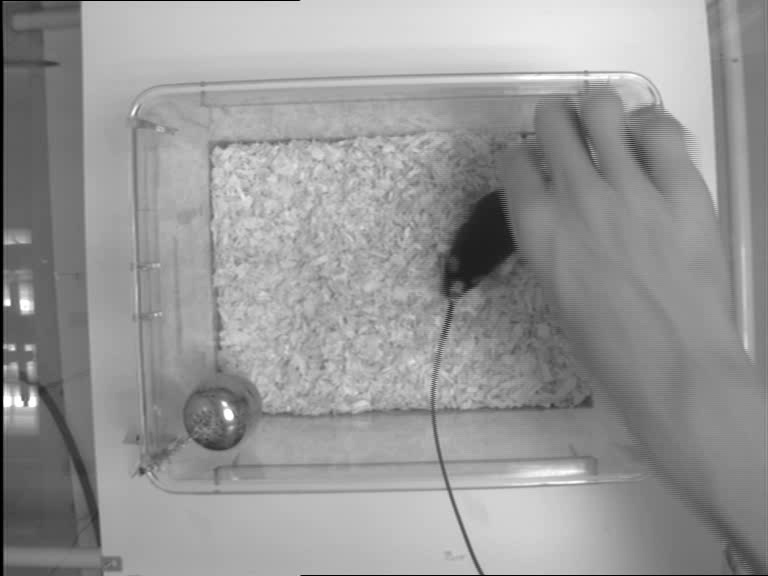mice: (439, 181, 526, 306)
